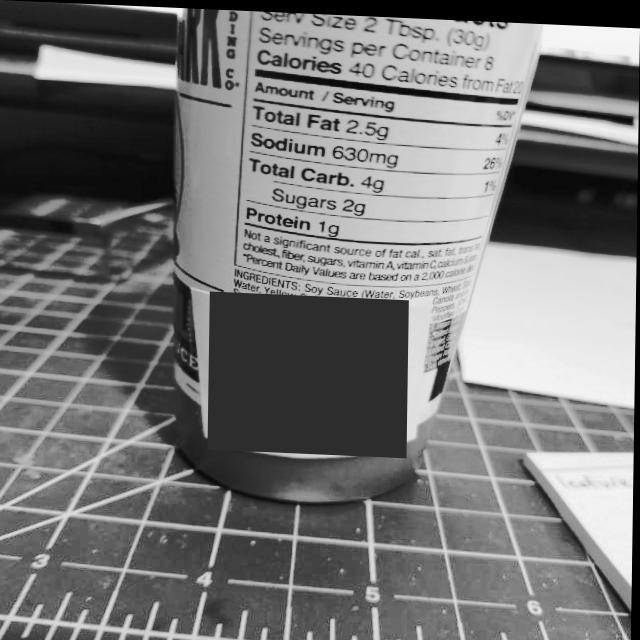qr_code: (209, 289, 410, 454)
